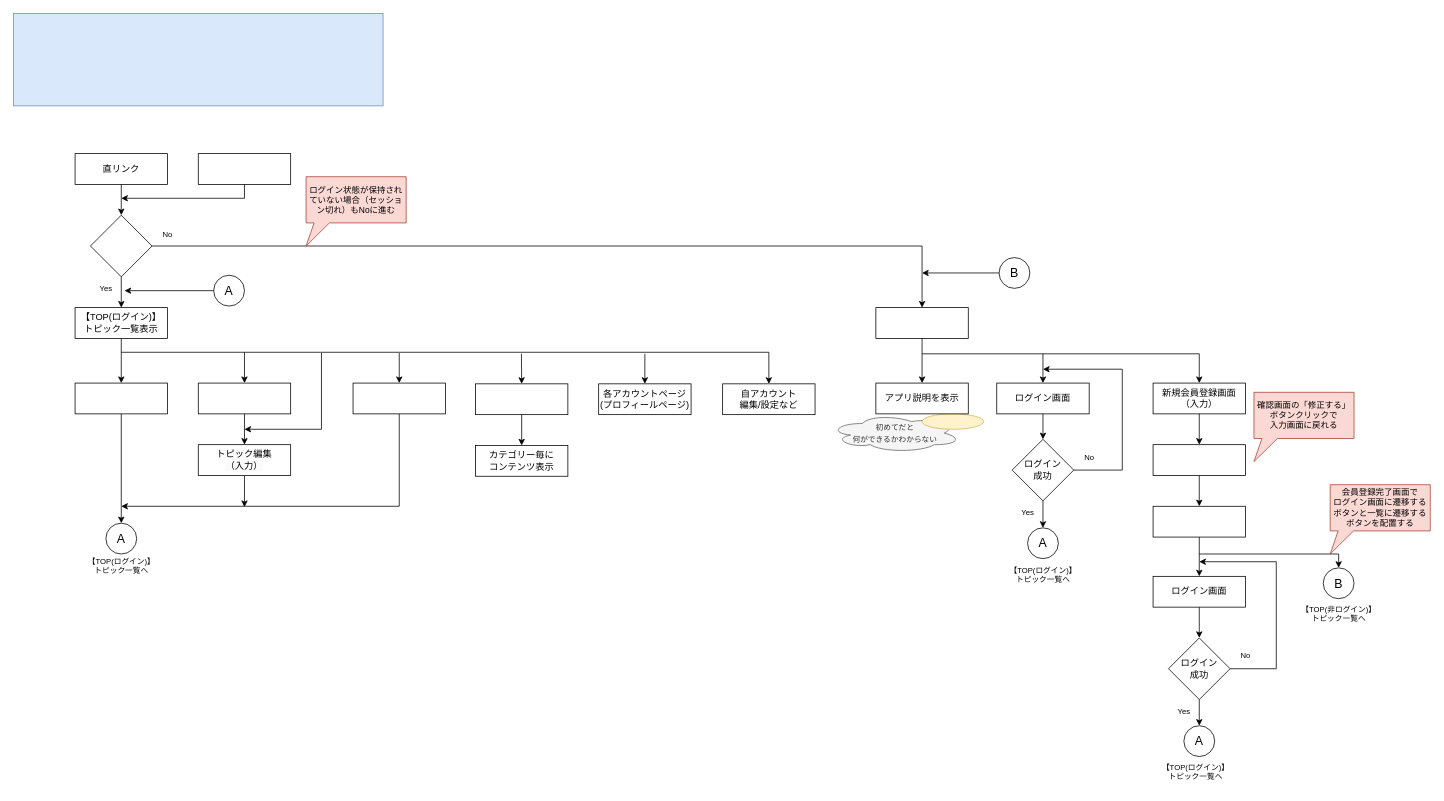
Image size: 1444x801. Some labels were removed from this diagram. The centre of each missing label's shape, as x and y in pixels:
"IIMS活動の アーカイブTOP" belongs at (521,399).
"【TOP(非ログイン)】 公開トピック一覧表示" belongs at (921,322).
"【クローズドコンテンツの画面フロー（ユーザ側）】 管理者権限の有無に問わず全てのユーザーがアクセスする表層" belongs at (198,59).
"チュートリアル" belongs at (952,421).
"トピック削除 （確認）" belongs at (398,398).
"トピック新規作成 （入力）" belongs at (120,398).
"トピック詳細表示" belongs at (244,398).
"ログイン している" belongs at (121,245).
"会員情報登録画面 （確認）" belongs at (1198,459).
"会員情報確認画面 （完了）" belongs at (1198,521).
"対外コンテンツからリンク遷移" belongs at (244,168).
